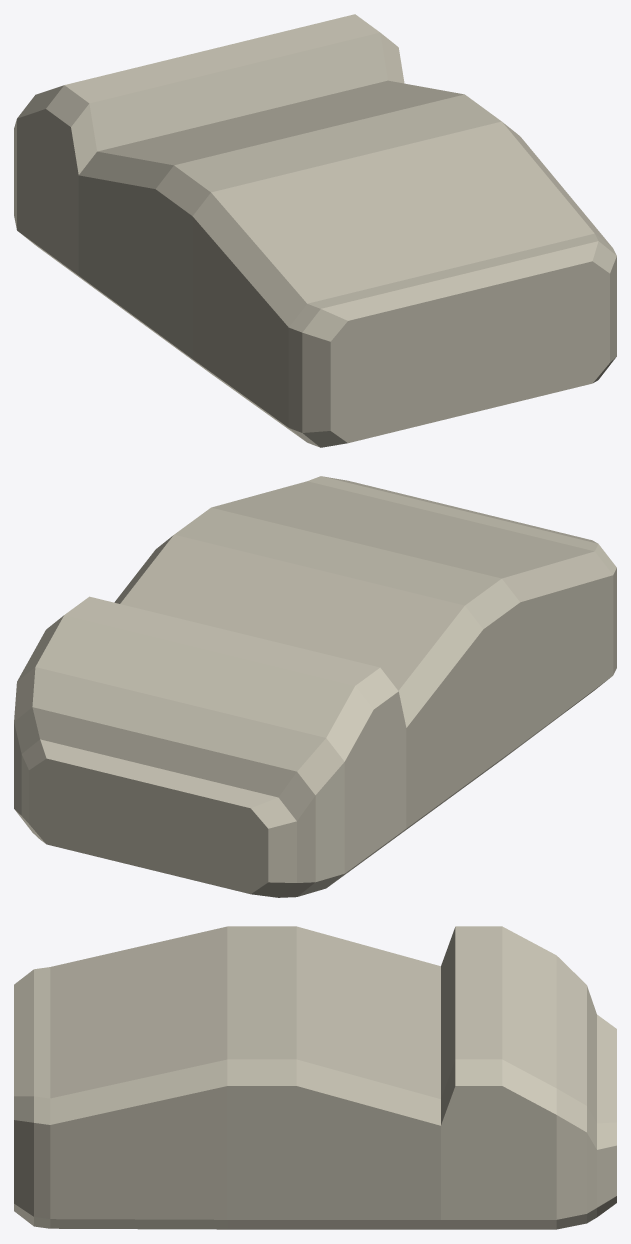
Rendered from durham_light_b.glb.
3 renders of one model, top to bottom at view 1: azimuth 30°, elevation 25°; view 2: azimuth 150°, elevation 25°; view 3: azimuth 270°, elevation 25°, orthographic. The views are drawn at different scales.
Visible parts, largest first — view 1: durham_light_b; view 2: durham_light_b; view 3: durham_light_b.
Boxes of the visible parts, x1=… form: durham_light_b: x1=14, y1=14, x2=616, y2=447; durham_light_b: x1=14, y1=476, x2=616, y2=897; durham_light_b: x1=14, y1=926, x2=616, y2=1229.
Bounding box in the file's own units: 3 × 1.59 × 5.1.
